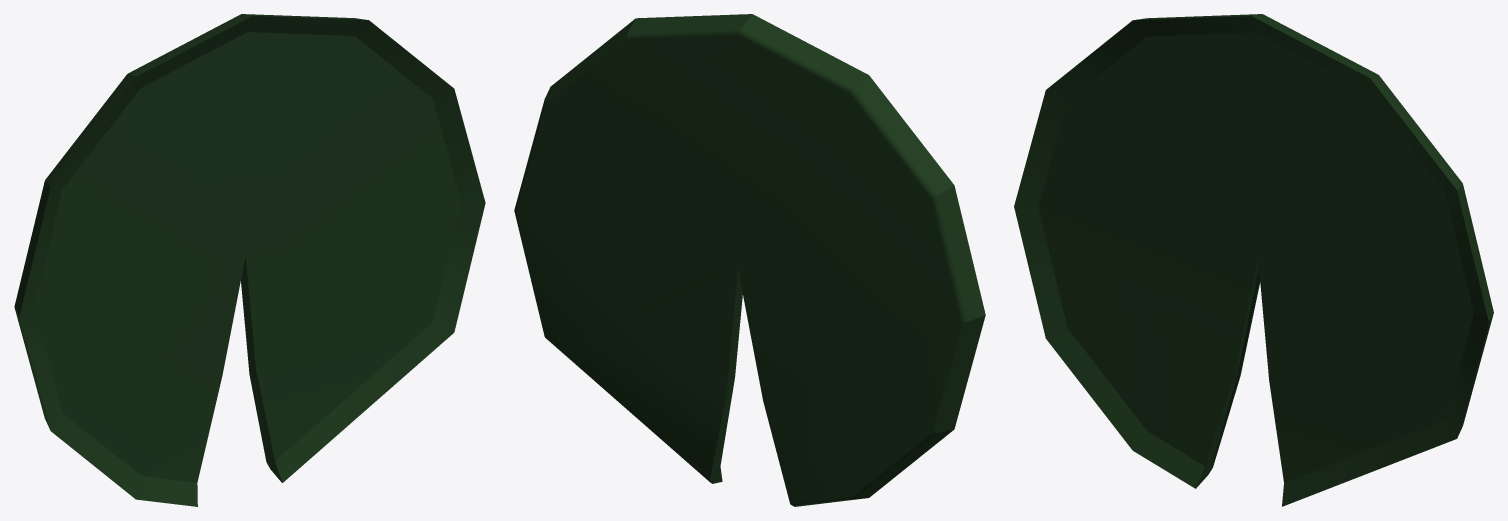
The model's file is M_LilyPad_CO.fbx.
3 views of the same model, side by side, from view 1: azimuth 30°, elevation 25°; view 2: azimuth 150°, elevation 25°; view 3: azimuth 330°, elevation 25° (orthographic).
Parts seen in each view (by area): view 1: pDisc1; view 2: pDisc1; view 3: pDisc1.
Part boxes in pixels (x1=…): pDisc1: x1=14, y1=14, x2=485, y2=506; pDisc1: x1=514, y1=14, x2=985, y2=506; pDisc1: x1=1014, y1=14, x2=1493, y2=506.
Size of the model in its own units: 5.28 by 5.17 by 0.2839.
